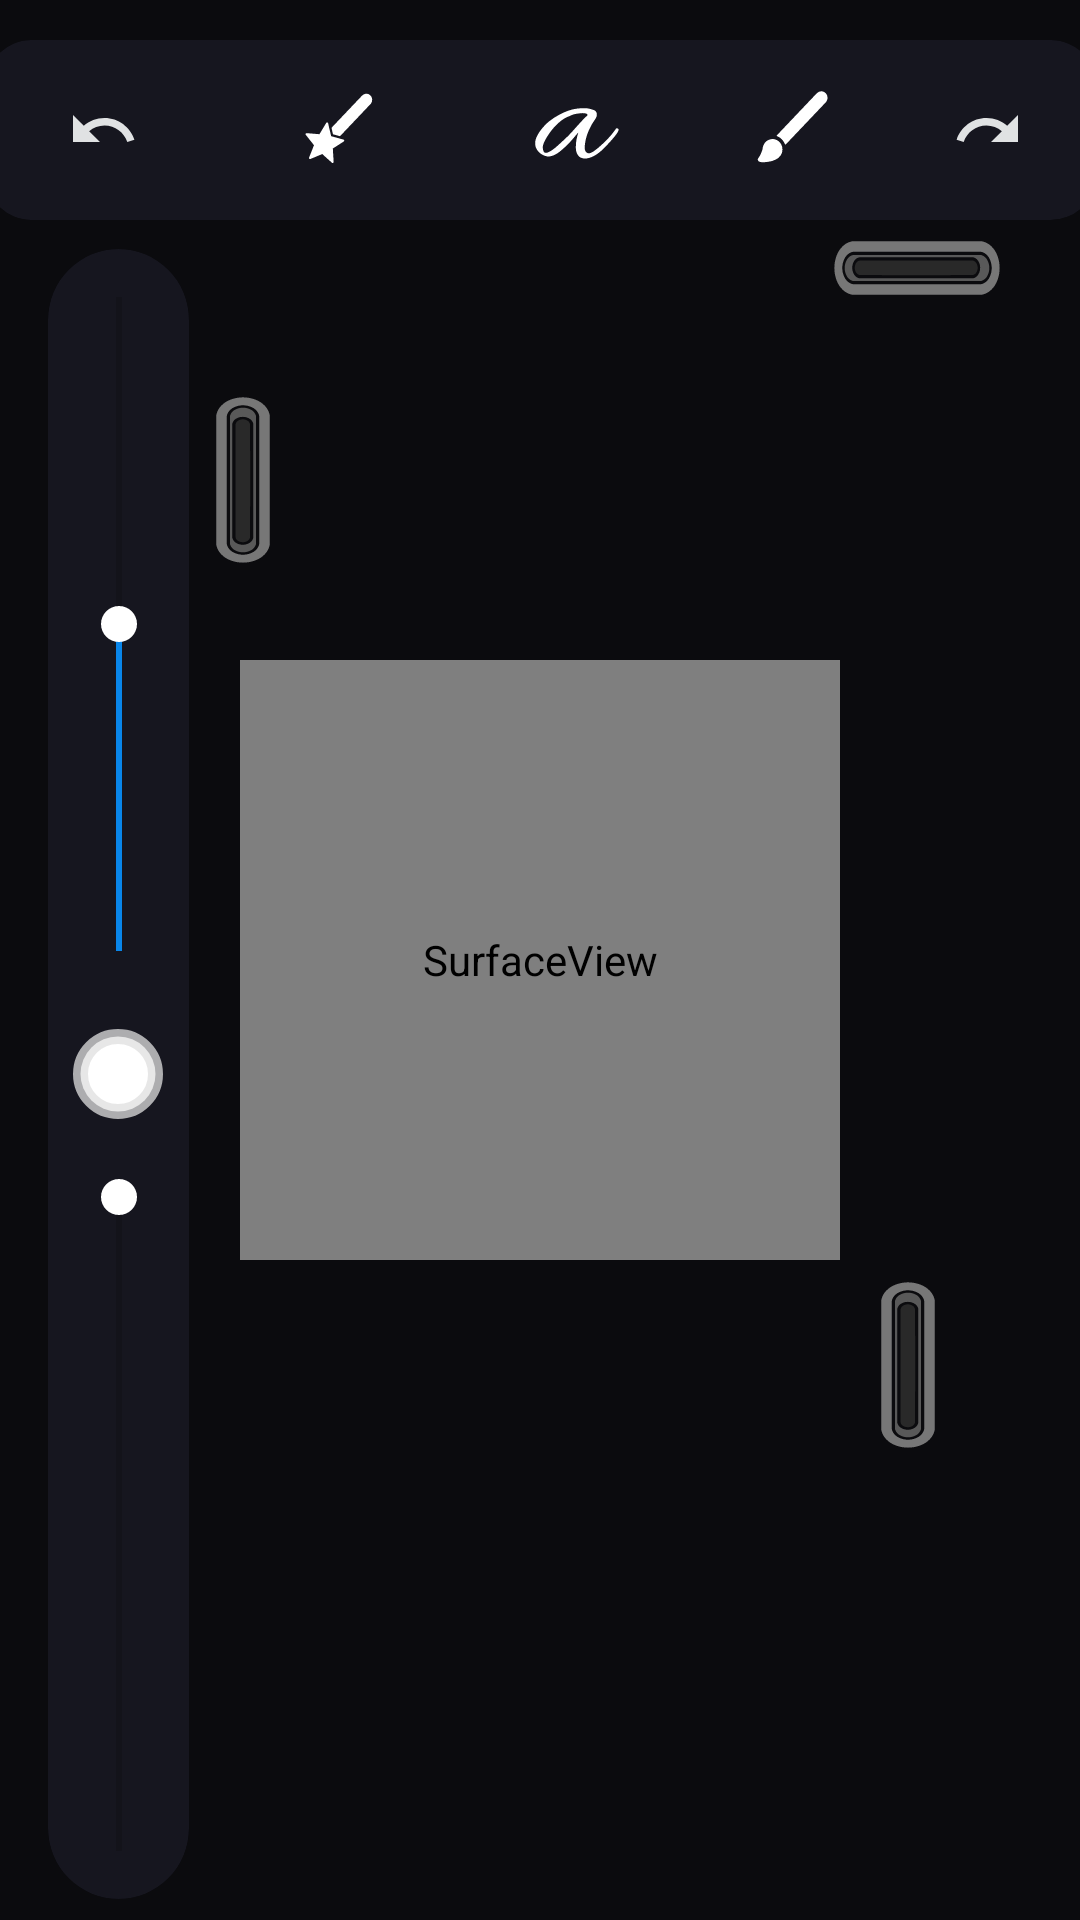

Icons on this 1080x1920 Android screen, each with its box as bbox(x1, y1, x2, y2):
iconbrush: bbox(757, 91, 828, 163)
iconmagicbrusher: bbox(305, 93, 373, 163)
icontxt: bbox(535, 108, 619, 159)
redo: bbox(956, 115, 1018, 142)
undo: bbox(73, 115, 135, 142)
